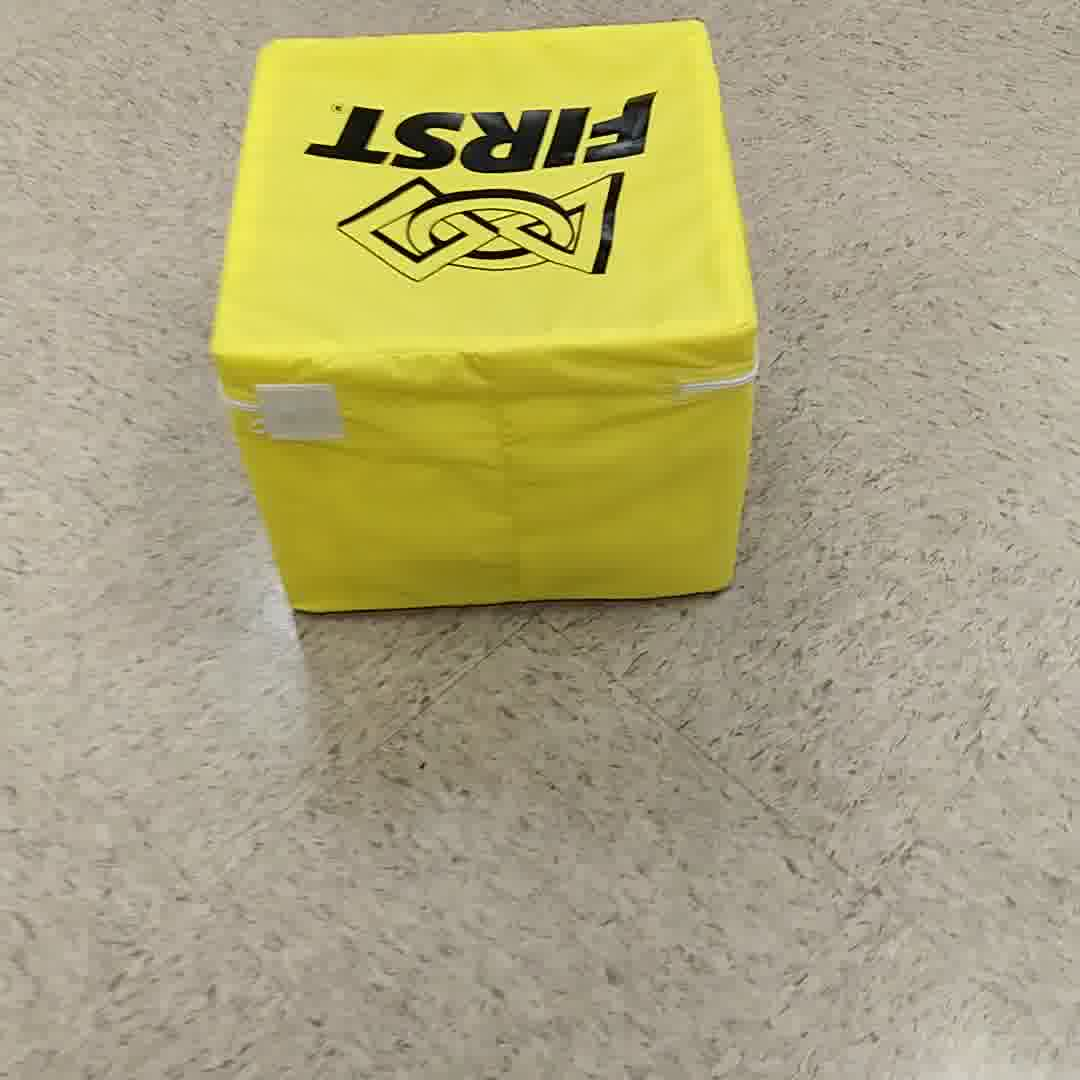box: (219, 21, 767, 604)
